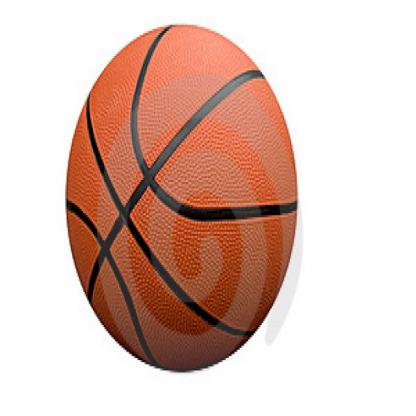basketball: (63, 20, 298, 373)
